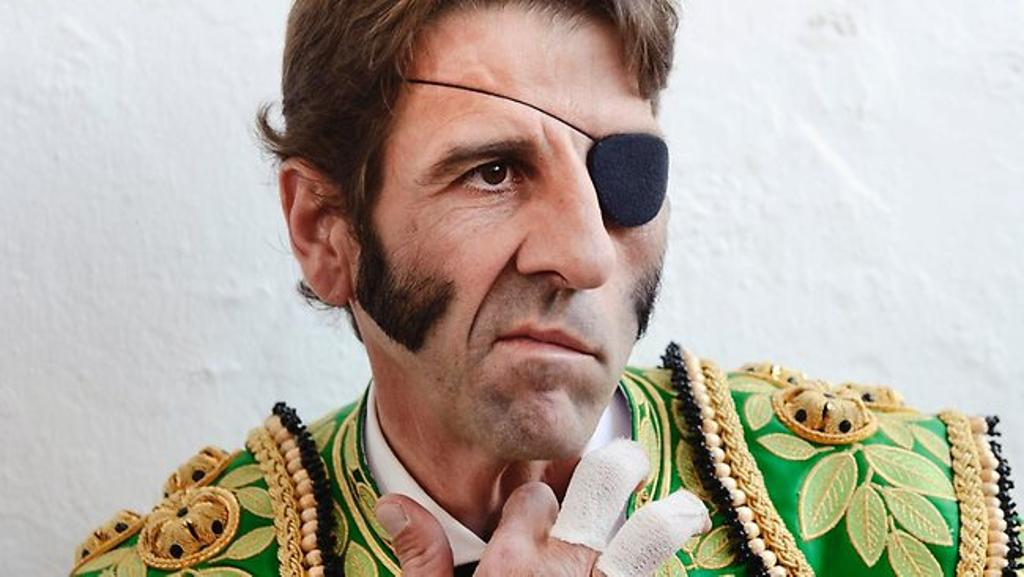face: (350, 36, 666, 458)
